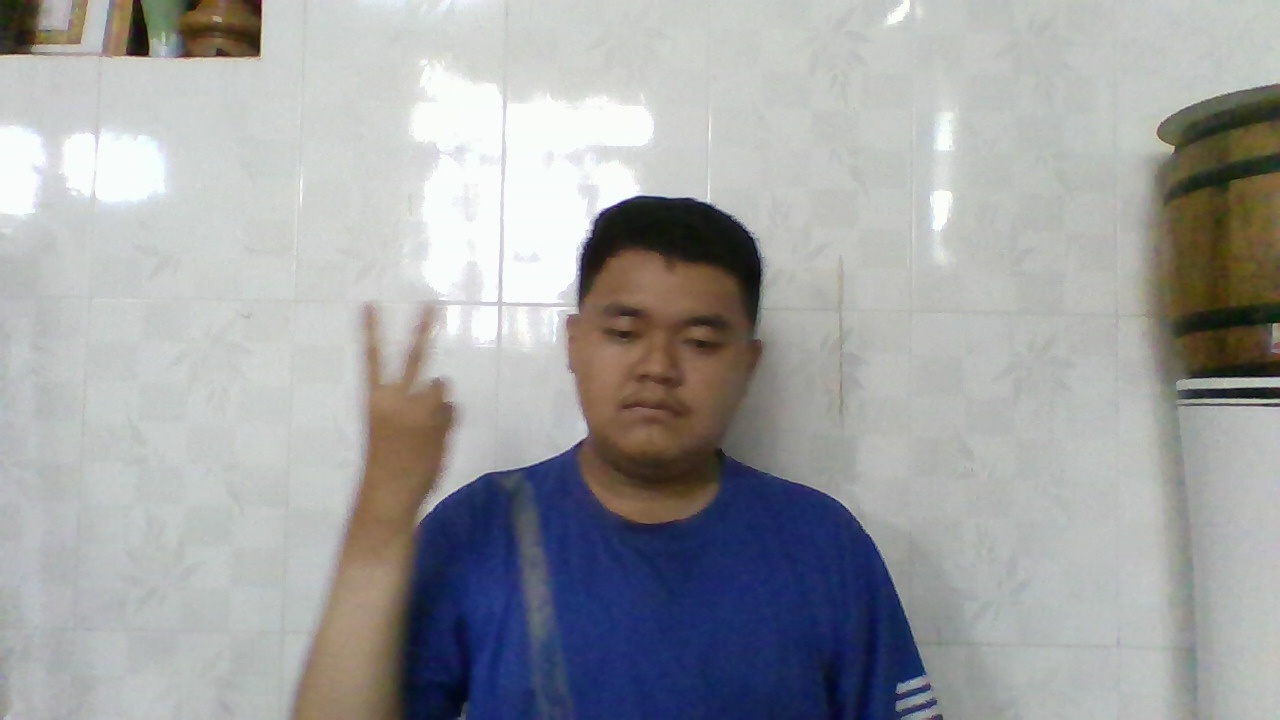V: (349, 291, 460, 508)
